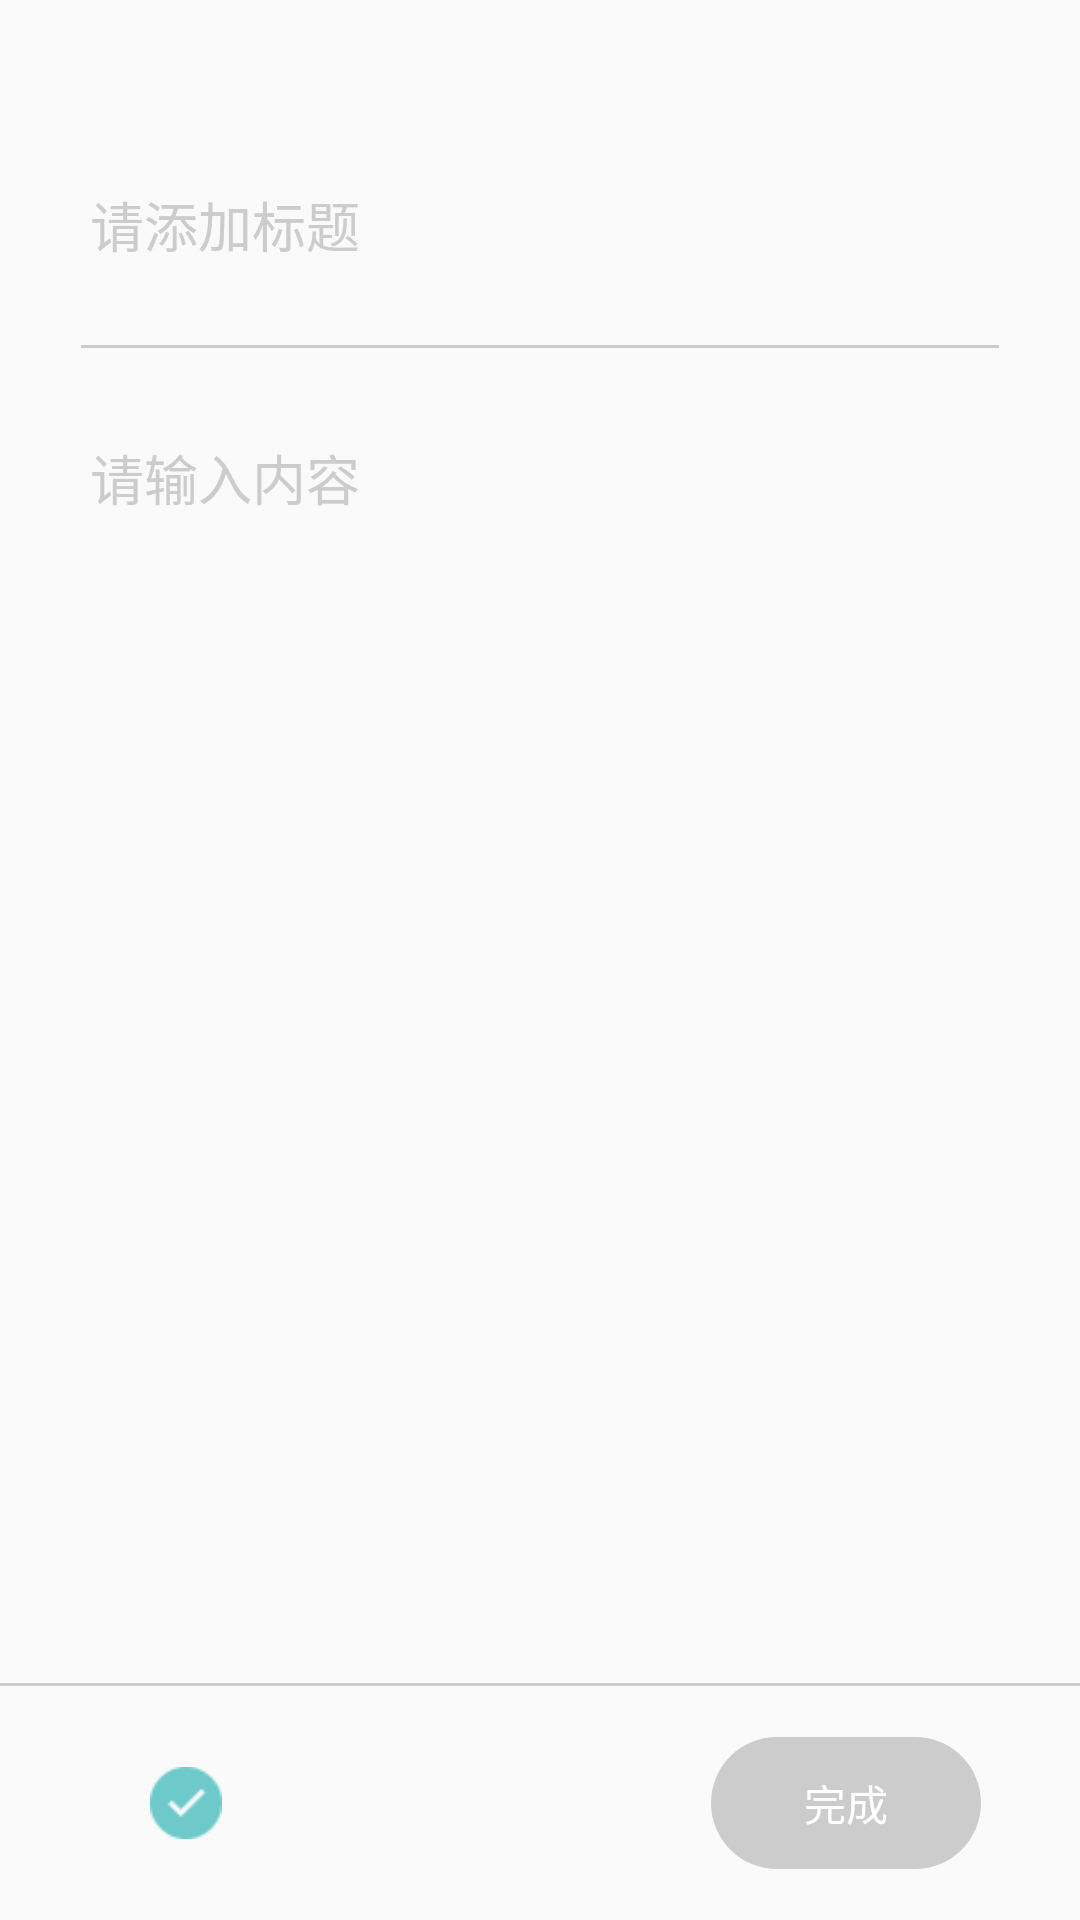

Named icons in this screenshot (1080 × 1920) and their bounding boxes, (x1, y1, x2, y2):
checked: (150, 1767, 222, 1839)
